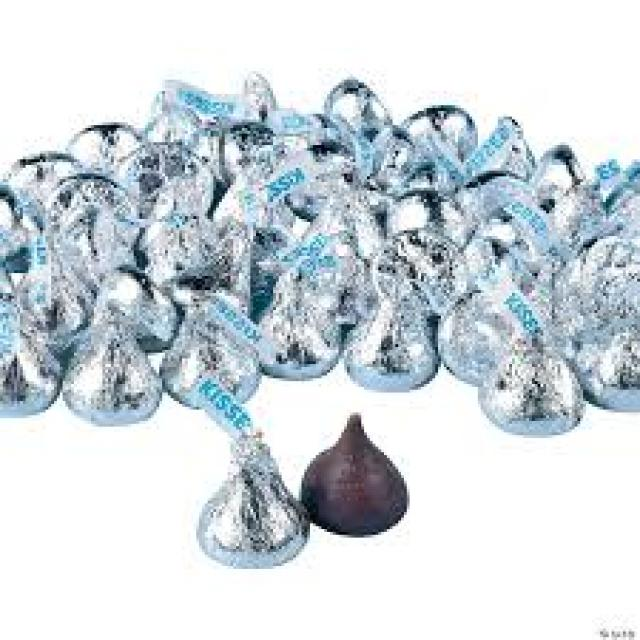kisses: (188, 412, 308, 568), (468, 305, 595, 436), (54, 298, 169, 428), (161, 284, 262, 418), (442, 257, 543, 380), (335, 279, 441, 393), (129, 192, 236, 303), (250, 262, 348, 376), (11, 224, 96, 348), (111, 131, 222, 223), (45, 166, 142, 266), (372, 222, 470, 317), (552, 230, 640, 332), (395, 97, 479, 187), (0, 308, 61, 422), (310, 72, 402, 147), (470, 161, 550, 243), (218, 119, 302, 188), (536, 147, 593, 208)
